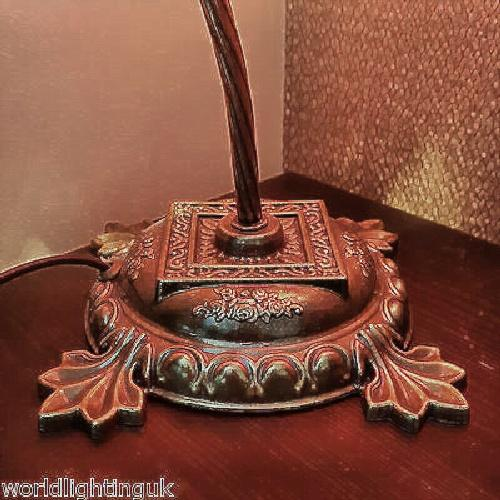lamp: (78, 10, 447, 431)
